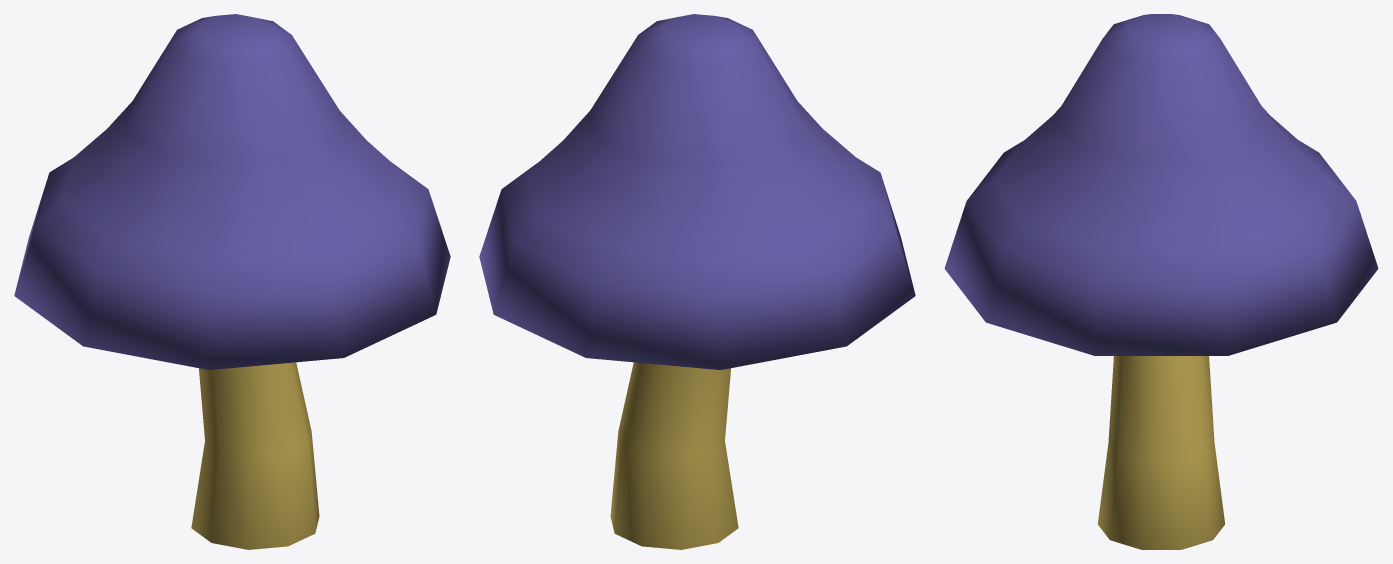
The model's file is Mushroom_Blue_Cone_1.fbx.
3 renders of one model, left to right at view 1: azimuth 30°, elevation 25°; view 2: azimuth 150°, elevation 25°; view 3: azimuth 270°, elevation 25°, orthographic. The views are drawn at different scales.
Visible parts, largest first — view 1: Cylinder.534, Cylinder.535; view 2: Cylinder.534, Cylinder.535; view 3: Cylinder.534, Cylinder.535.
Part boxes in pixels (x1,y1,x2,y2): Cylinder.534: (14,14,450,369); Cylinder.535: (191,362,319,549); Cylinder.534: (479,14,915,369); Cylinder.535: (610,362,738,549); Cylinder.534: (944,14,1378,355); Cylinder.535: (1098,356,1224,549).
Bounding box in the file's own units: 72.61 × 94.29 × 76.34.
